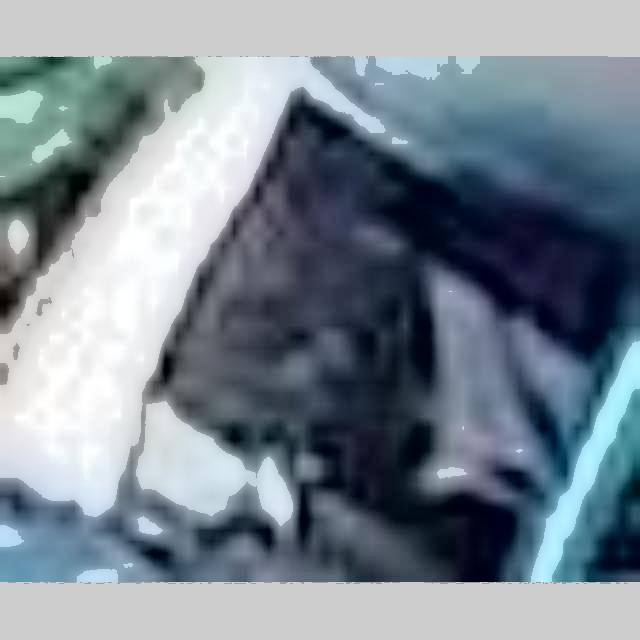pakai: (331, 251, 617, 503)
